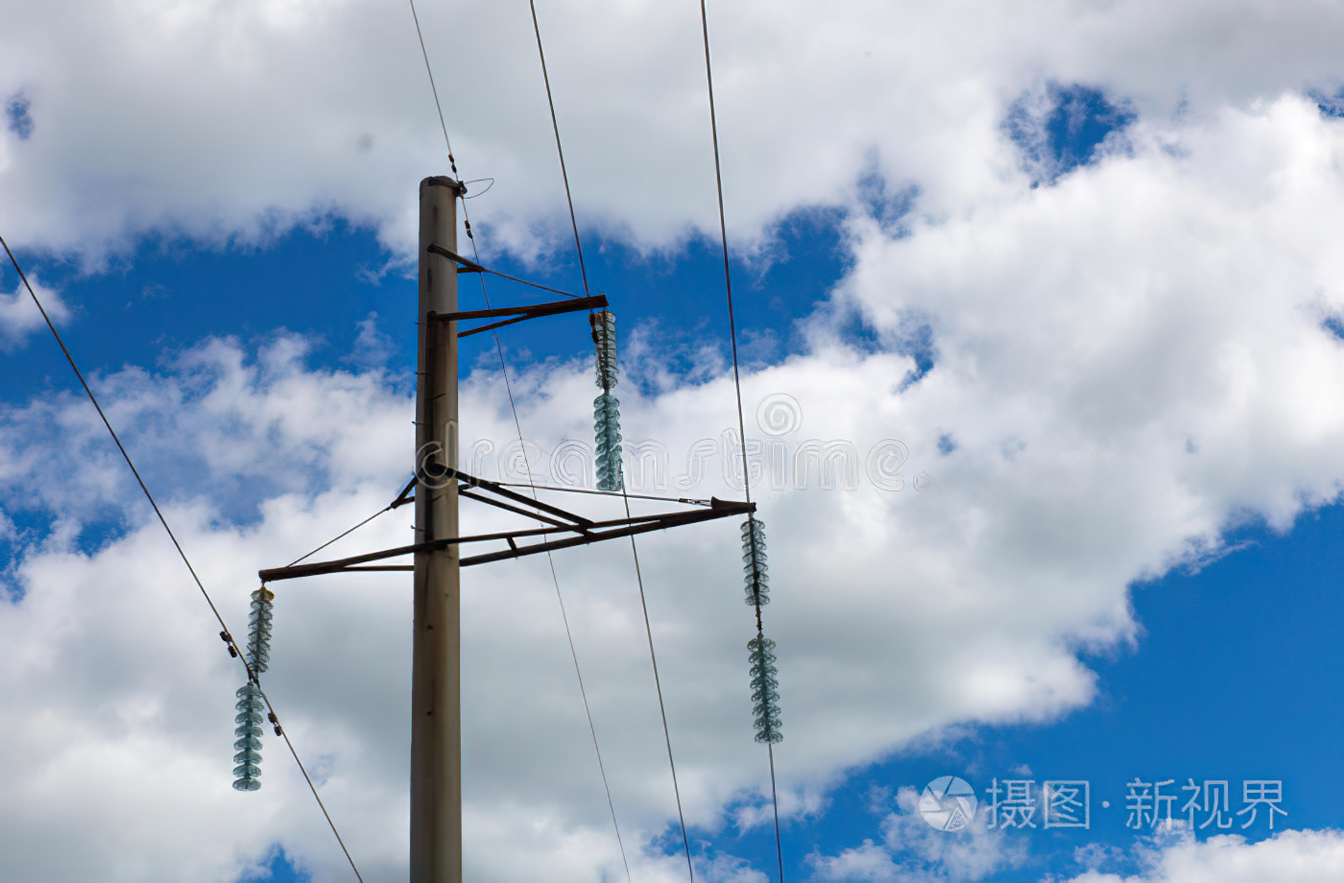insulator: (229, 681, 266, 790), (745, 634, 781, 744), (588, 395, 622, 491), (243, 588, 273, 677), (741, 518, 767, 608), (591, 310, 618, 392)
